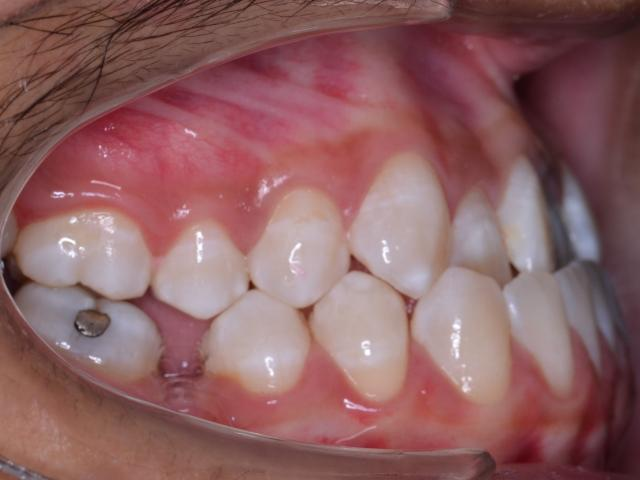canine class II 1/4: (308, 138, 512, 420)
molar class II 1/4: (12, 196, 172, 388)
